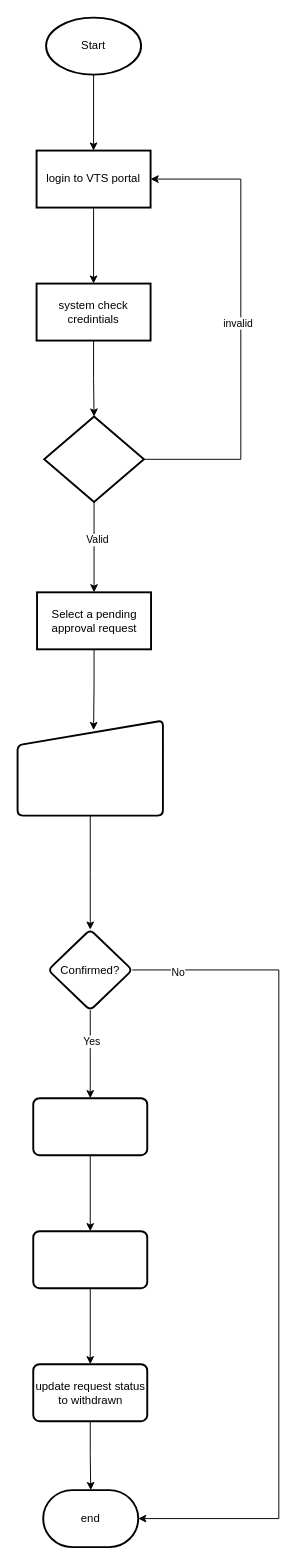
Image size: 303x1564. Some labels were removed from this diagram. The box of each missing label's shape, as (x1, y1, x2, y2) in pixels:
Prompt for withdrawal confirmation: (16, 719, 163, 816)
remove request from manager list: (32, 1097, 148, 1156)
Send notification to manager: (32, 1230, 148, 1289)
Validate: (43, 415, 144, 503)
